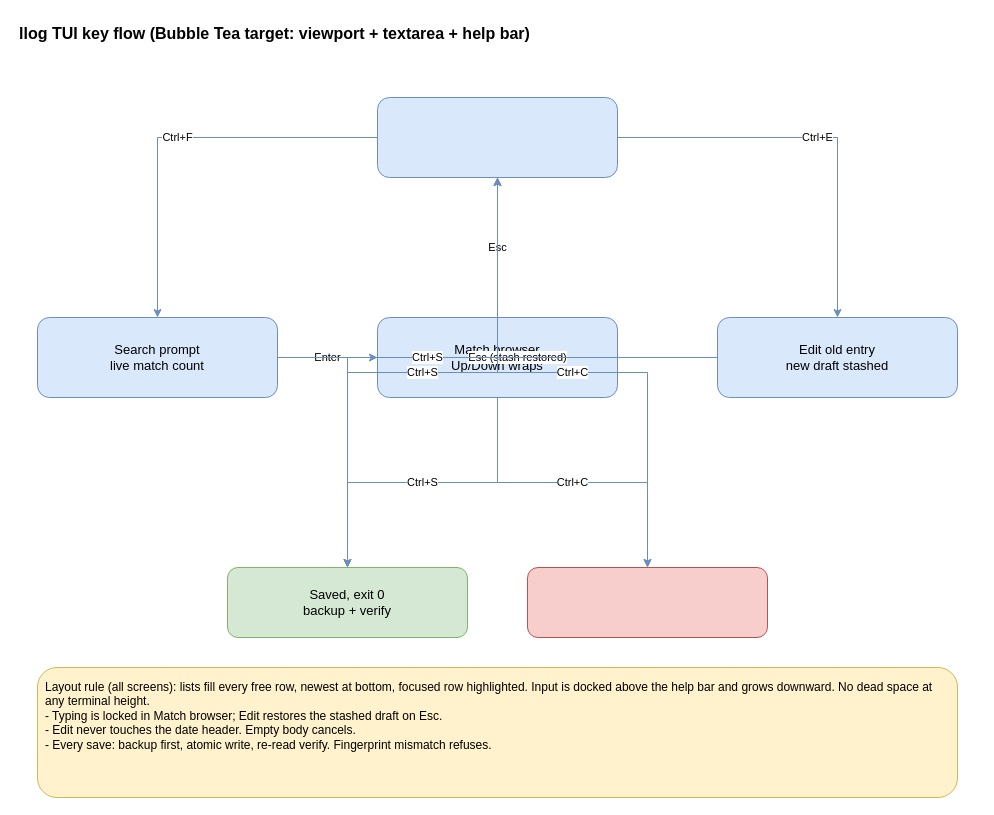
This 994x815 diagram has some shape labels left out. The centre of each missing label's shape, as x and y in pixels:
"Discarded / refused nothing written" belongs at [647,602].
"Write (default) history list + draft" belongs at [497,137].
